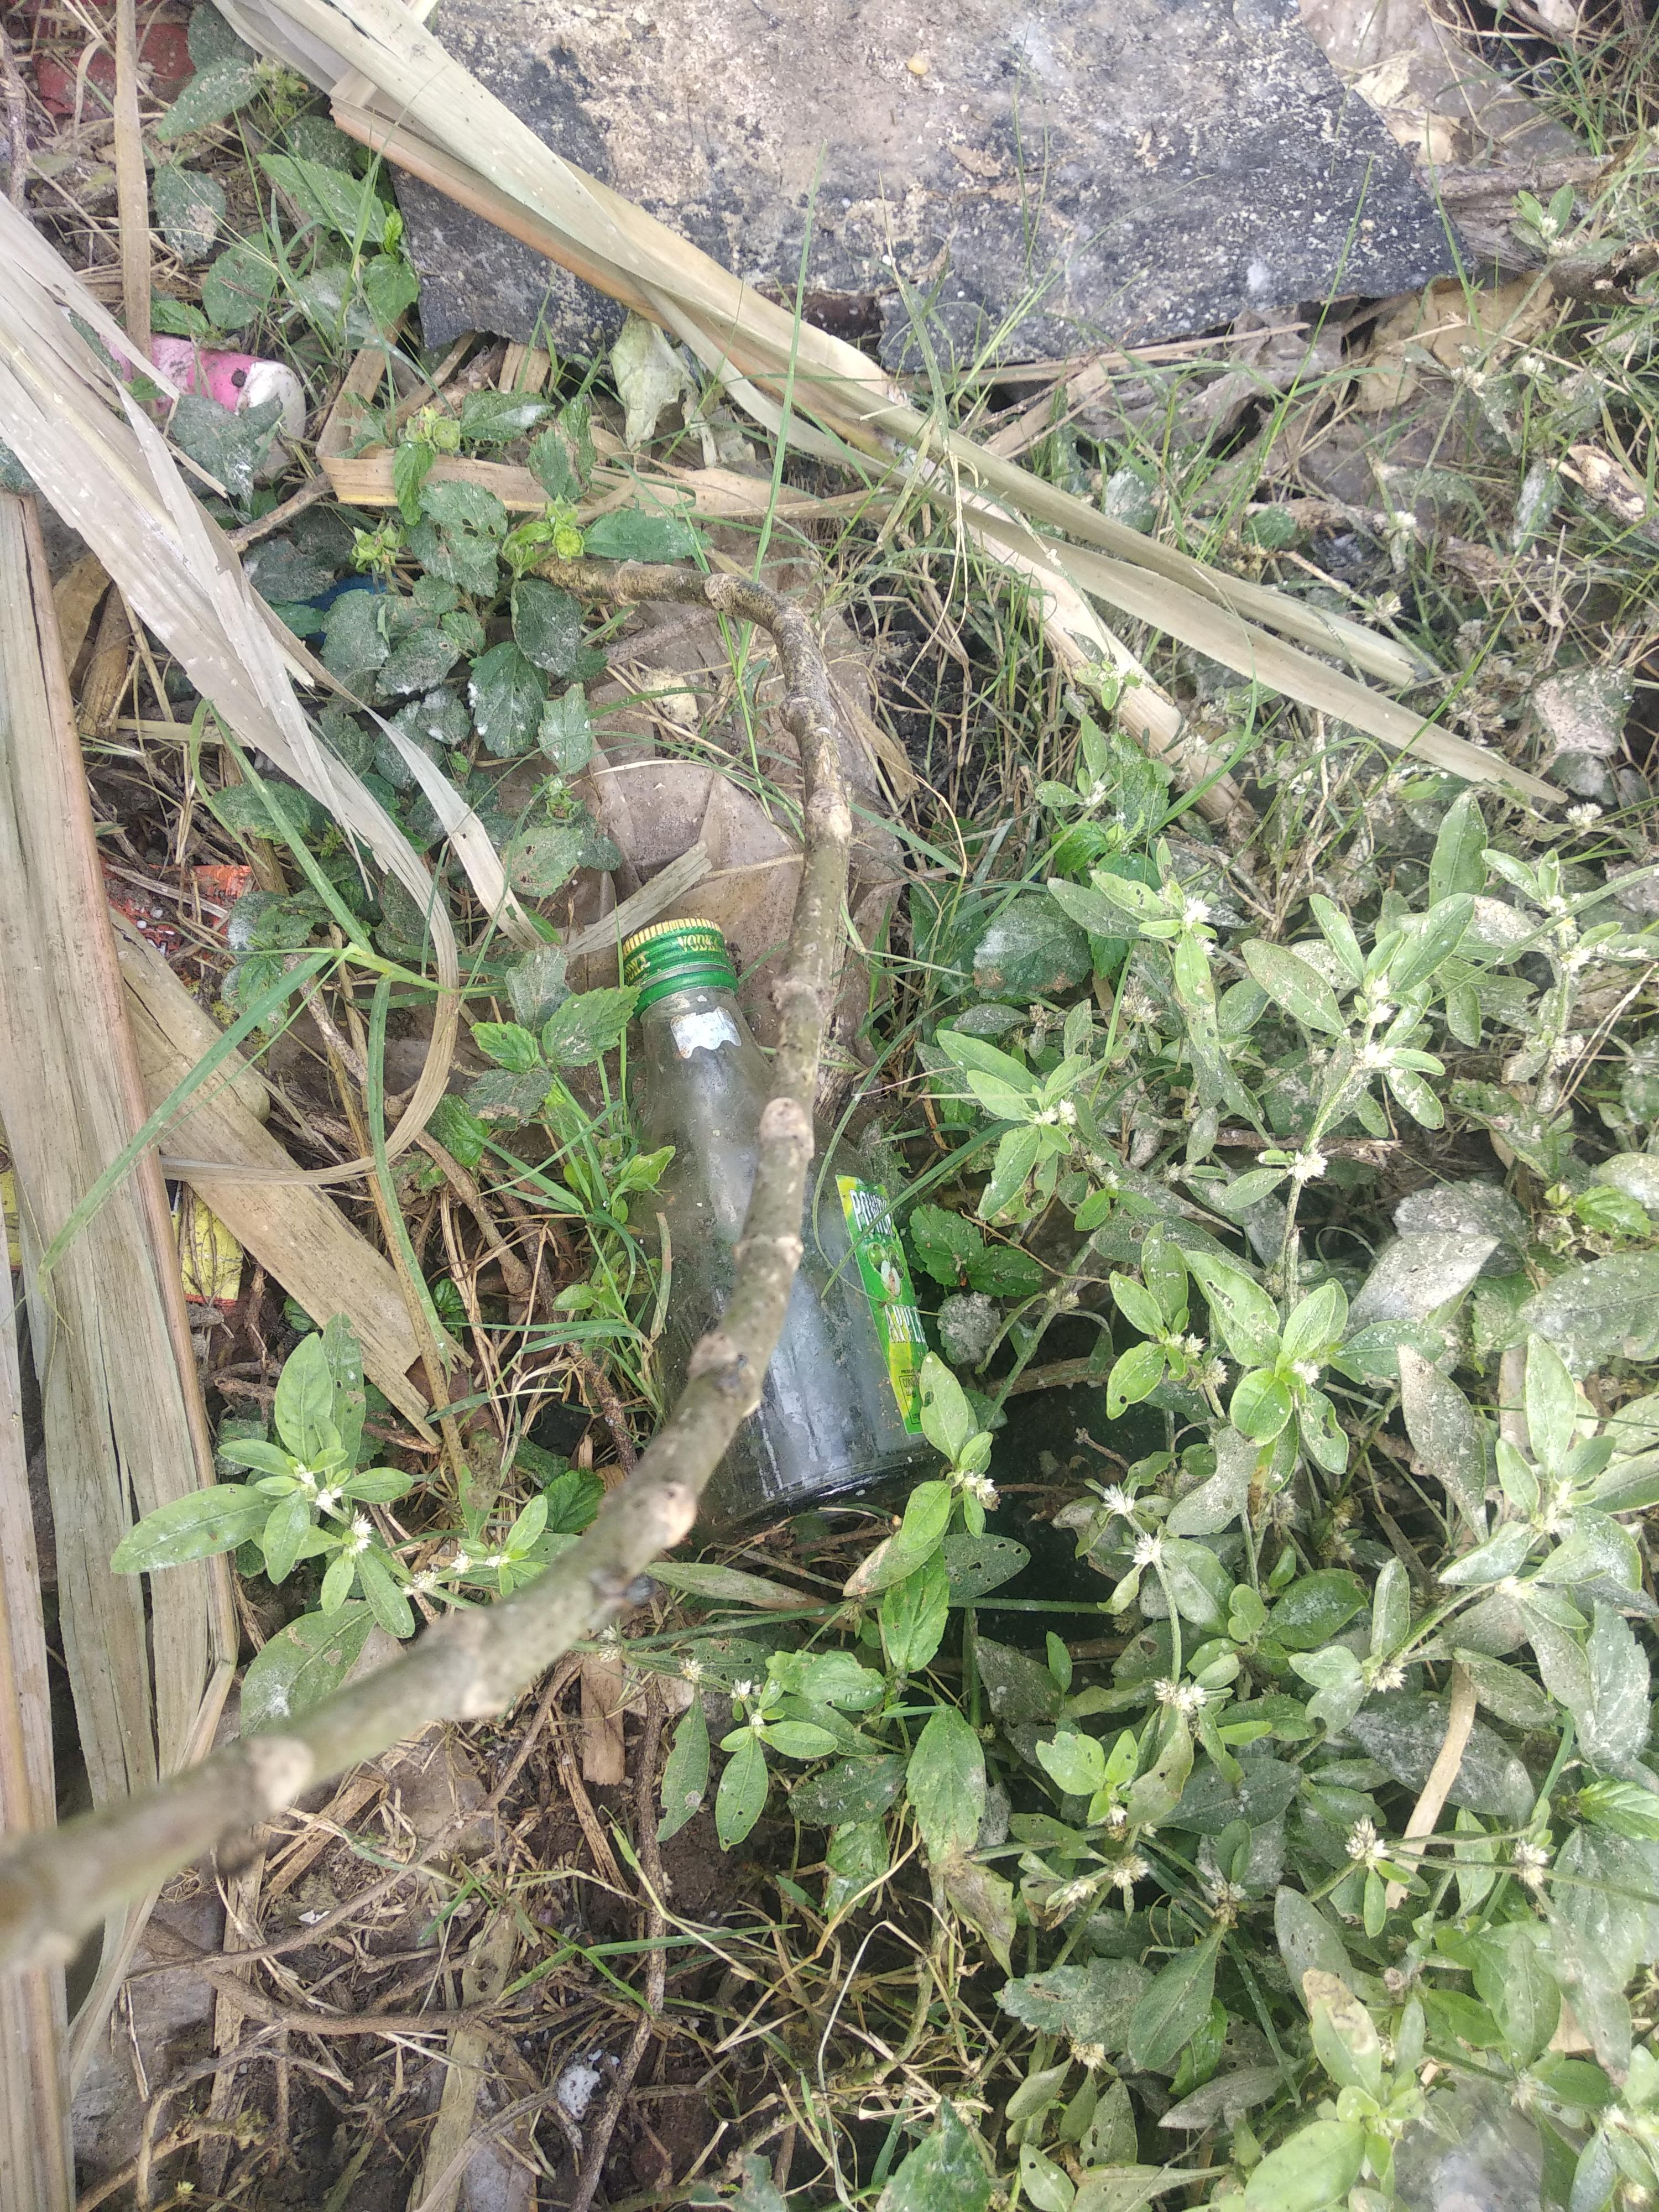trash: (544, 895, 945, 1564)
